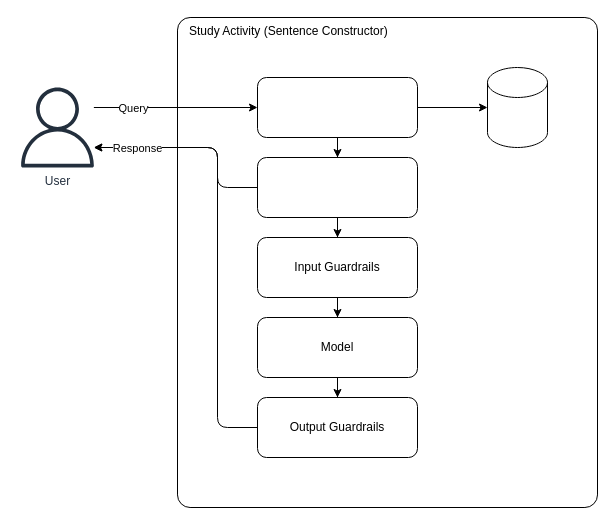
Some shapes in this 615 by 525 pixel diagram are drawn without their labels. The centre of each missing label's shape, as x and y in pixels:
Context Construction: (x=337, y=107)
Database: (x=517, y=107)
Prompt Cache: (x=337, y=187)
